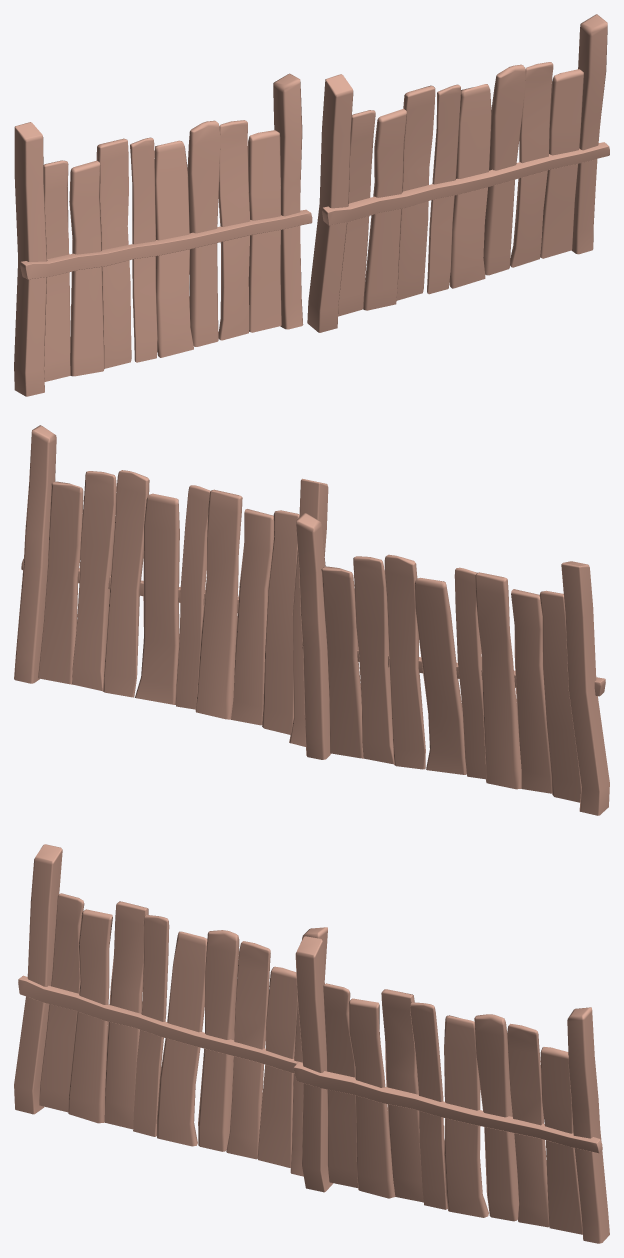
File: prop_fence_02_double.glb
The picture shows the model from 3 angles, top to bottom: view 1: azimuth 30°, elevation 25°; view 2: azimuth 150°, elevation 25°; view 3: azimuth 330°, elevation 25°; orthographic projection.
Parts seen in each view (by area): view 1: prop_fences_02; view 2: prop_fences_02; view 3: prop_fences_02.
Part boxes in pixels (x1,y1,x2,y2): prop_fences_02: (14,14,609,396); prop_fences_02: (14,425,609,815); prop_fences_02: (14,844,609,1243).
Size of the model in its own units: 5.62 by 2.38 by 0.6619.
